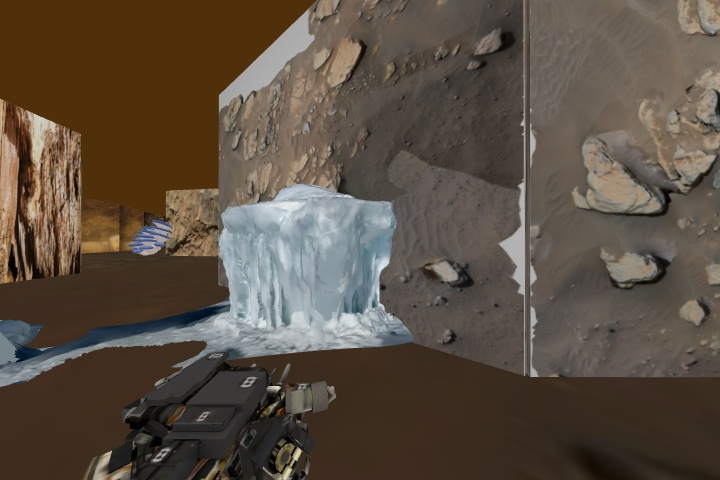glacier: (212, 181, 417, 353)
